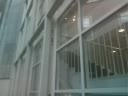window: (35, 3, 128, 96)
